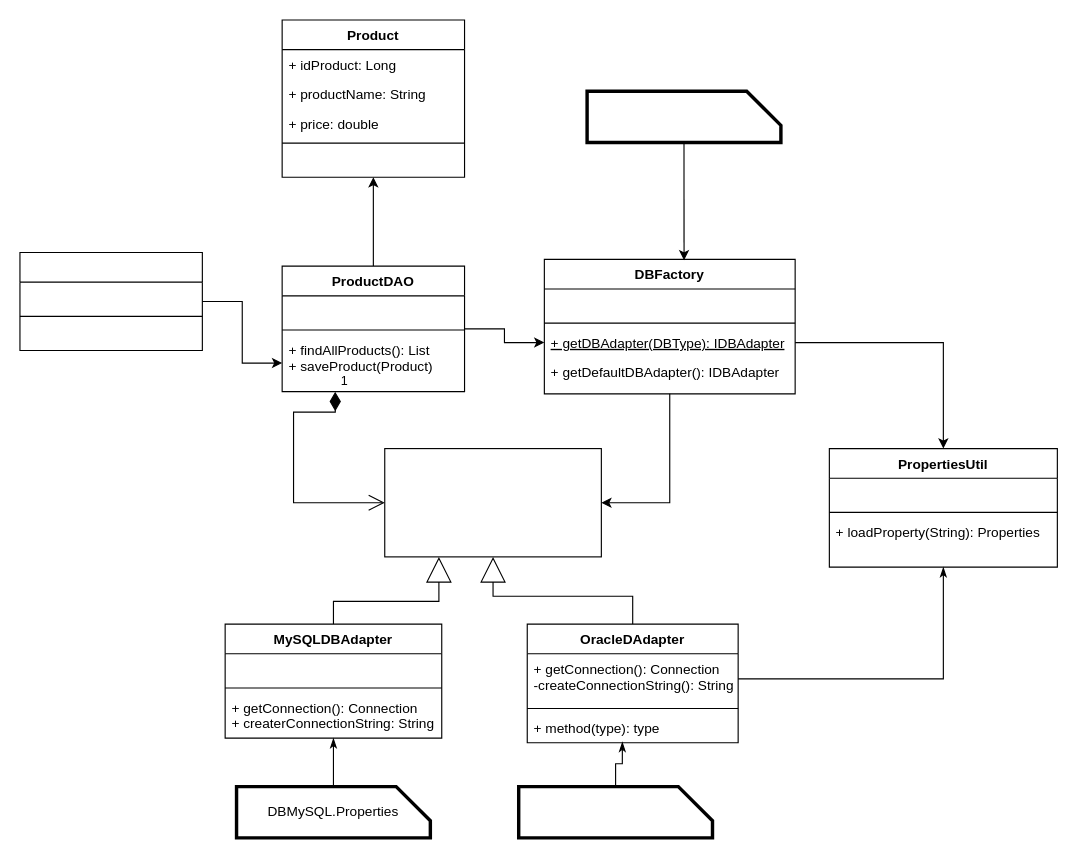
This 1077x860 diagram has some shape labels left out. Each missing label, with the centre of its shape:
"<<Interface>> IDBAdapter + getConnection(): Conecction" belongs at point 492,502.
"DBFactory.properties" belongs at point 683,116.
"DBOracle.properties" belongs at point 615,811.
"FactoryMain" belongs at point 110,301.
